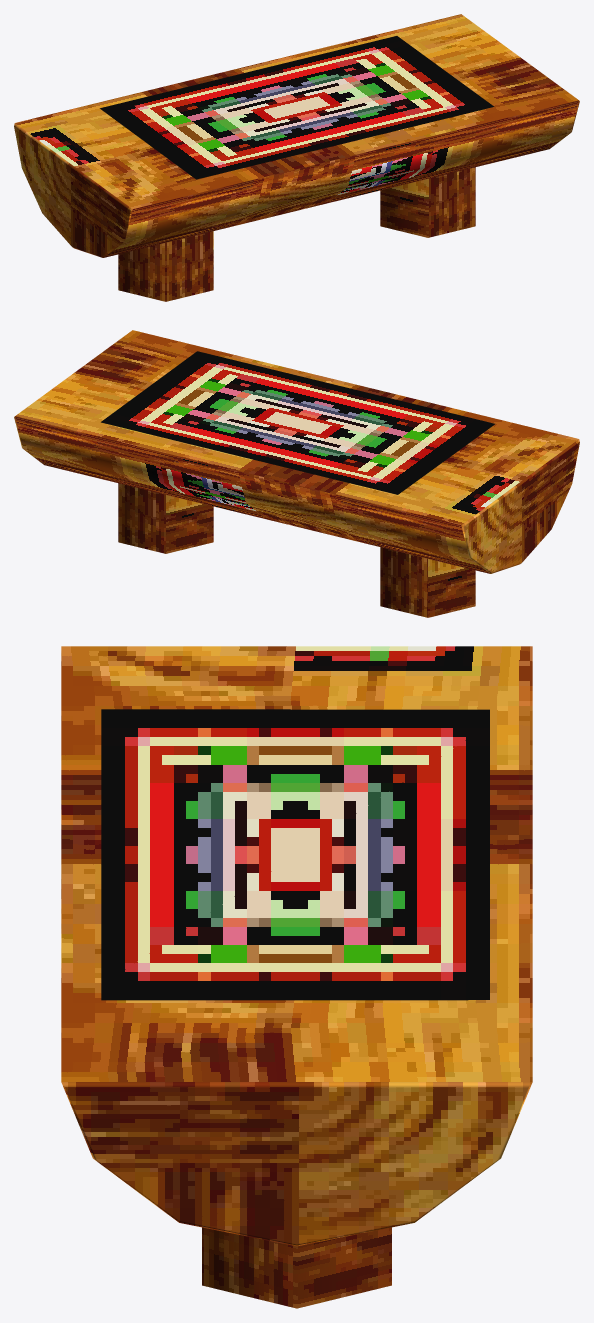
File: rmk_log_tableM.dae
3 views of the same model, one above another, from view 1: azimuth 30°, elevation 25°; view 2: azimuth 150°, elevation 25°; view 3: azimuth 270°, elevation 25° (orthographic). The views are drawn at different scales.
Visible parts, largest first — view 1: rmk_log_tableM; view 2: rmk_log_tableM; view 3: rmk_log_tableM.
Part boxes in pixels (x1,y1,x2,y2): rmk_log_tableM: (14,14,579,301); rmk_log_tableM: (14,330,579,617); rmk_log_tableM: (61,646,532,1308).
Size of the model in its own units: 56.38 by 16.68 by 25.55.
Materials: 2 (2 with a texture image).
